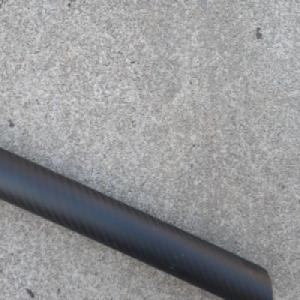LuggagePart: (0, 141, 274, 300)
